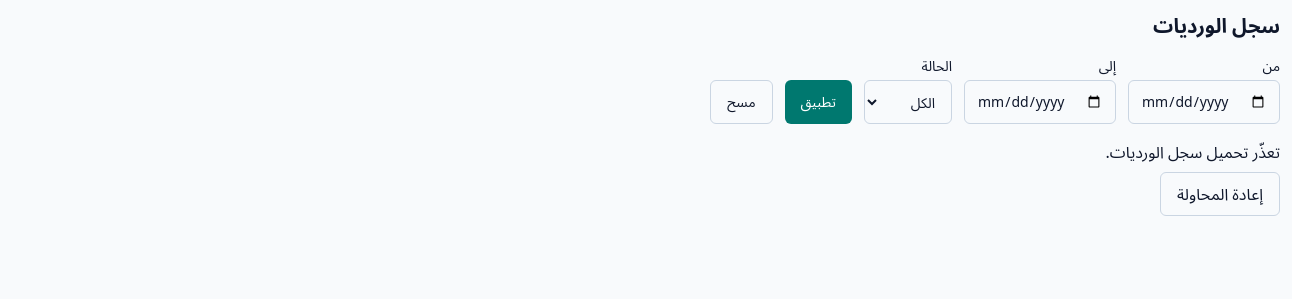
it: ShiftHistoryPage › shows error state with retry button
This screenshot has width=1292, height=299.
Expected: the message "تعذّر تحميل سجل الورديات. إعادة المحاولة" is shown, [1106,141,1280,216]
Expected: the text "تعذّر تحميل سجل الورديات." is shown, [1106,140,1280,164]
Click the button "إعادة المحاولة". click: (1220, 194)
box: [1160,172,1280,216]
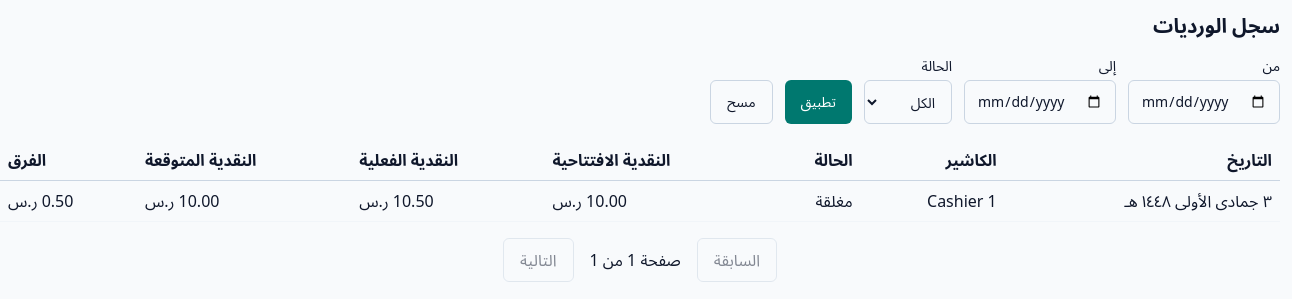
Now the table is shown, box [0,140,1280,222]
